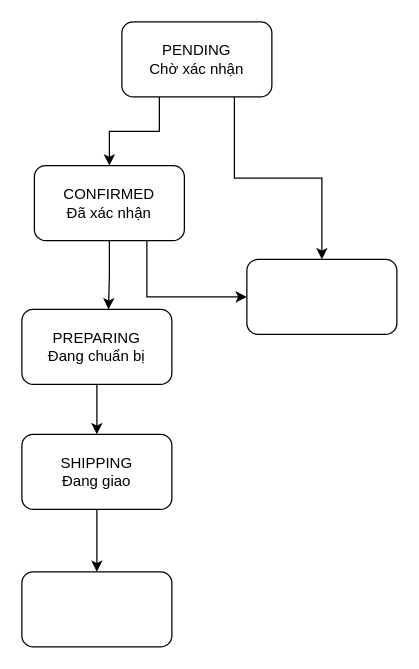
Some shapes in this 419 by 669 pixel diagram are drawn without their labels. The shapes that lost their labels are listed below. From the top down, each one's centre as x and y in pixels, then its label:
At point 321,296: "CANCELLED Đã hủy".
At point 96,609: "DELIVERED Đã giao".
